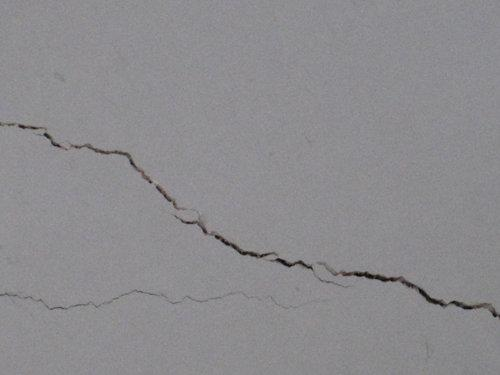crack: (1, 283, 253, 314)
